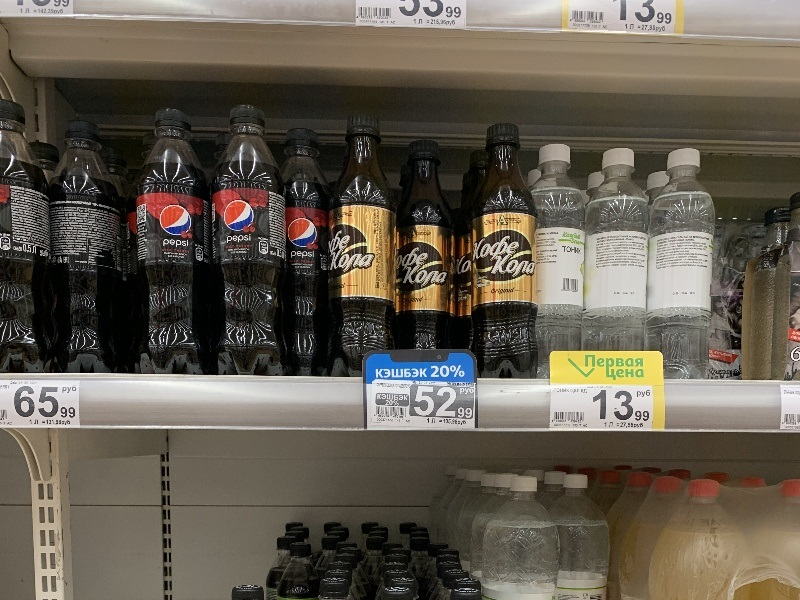lemonade: (203, 102, 292, 384), (132, 101, 215, 385), (463, 120, 542, 389), (321, 113, 395, 388), (47, 118, 121, 387)
